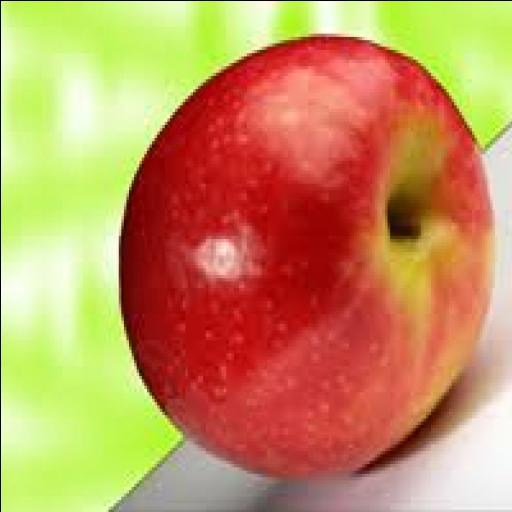apple: (121, 37, 491, 477)
